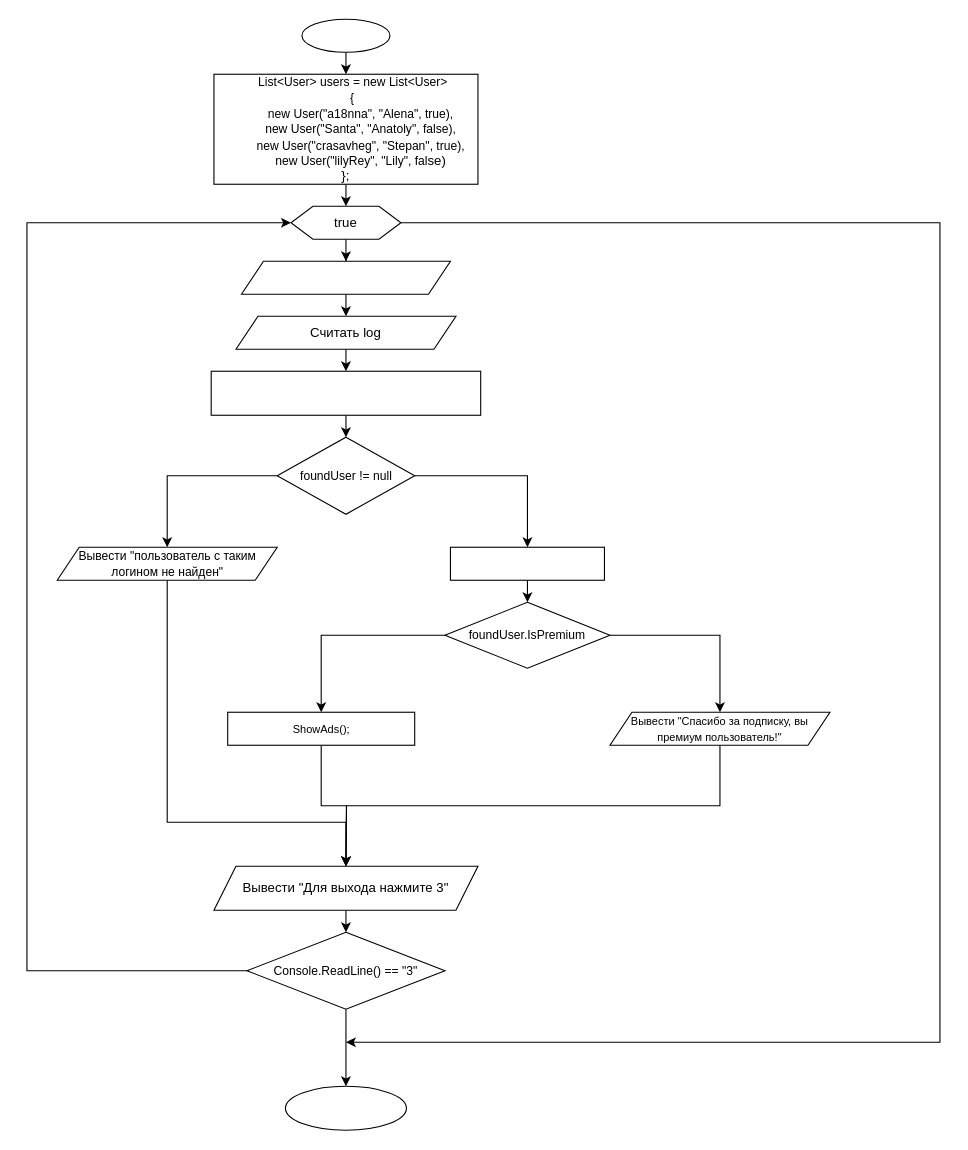
This 968x1150 diagram has some shape labels left out. Here are the shapes that lost their labels. From the top down, the centre of each, then its label:
(345,35): Начало
(345,277): Вывести "Введите логин"
(345,392): User foundUser = users.FirstOrDefault(user => user.Login == log);
(526,563): foundUser.Greetings();
(345,1107): Конец
